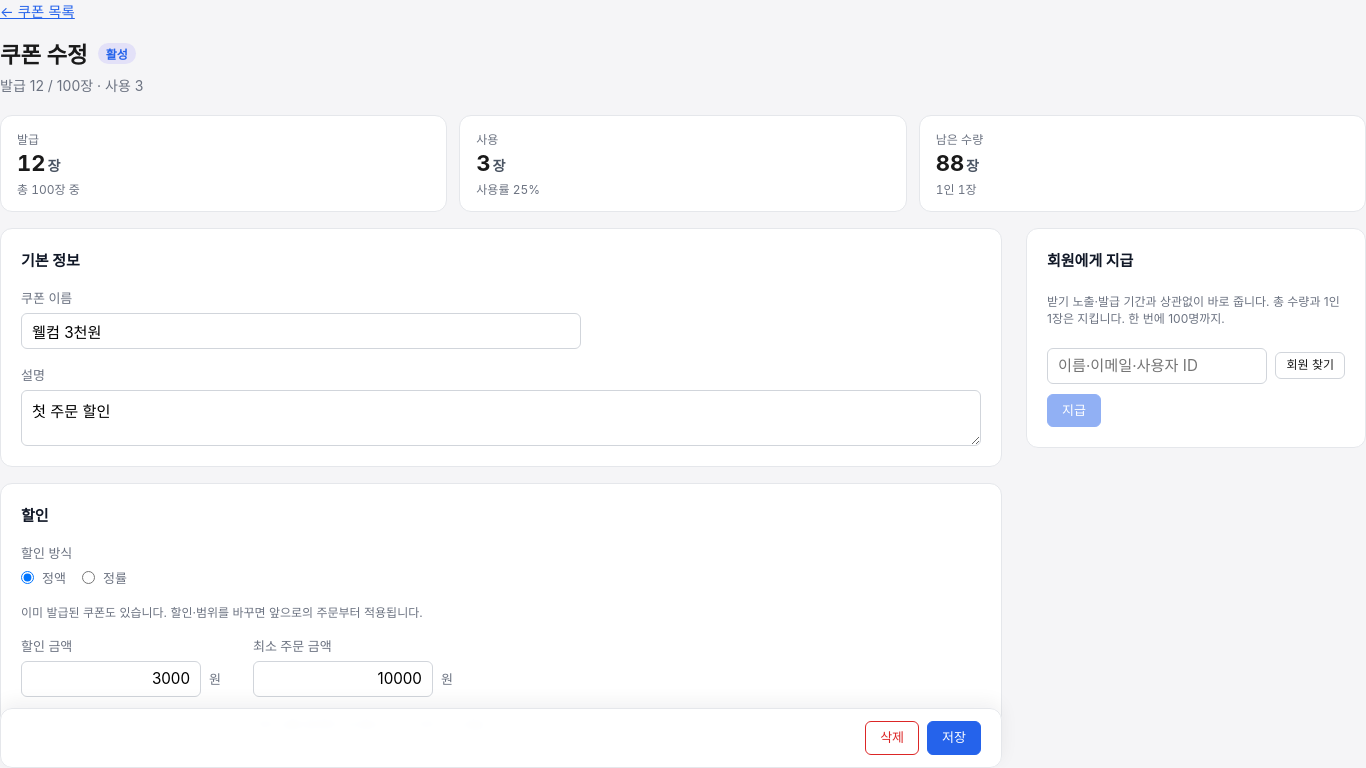
Test: CouponFormPage › shows the server's message on 400
Expected: the field labelled "쿠폰 이름" holds "웰컴 3천원", [21,313,581,349]
Click the button "저장". click: (954, 738)
box: [927,721,981,755]
(page scrolled)
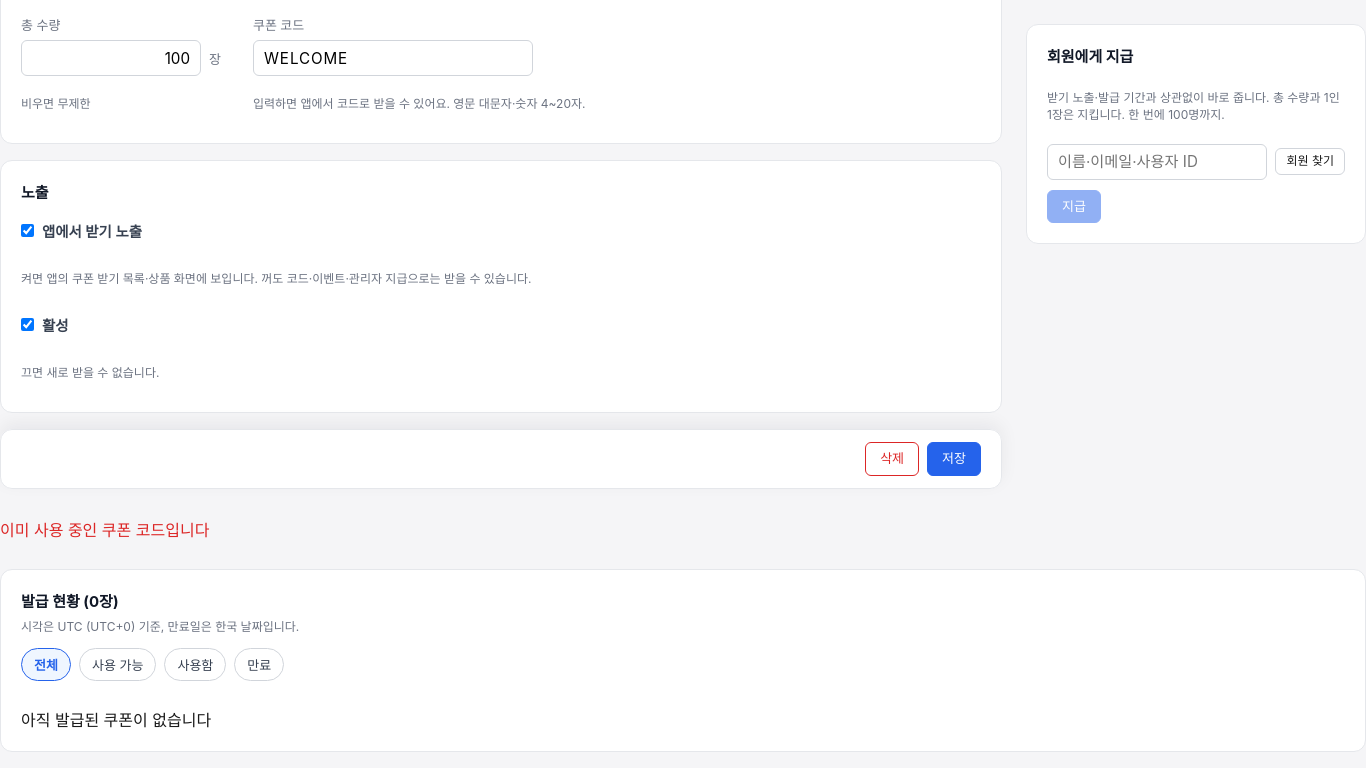
Expected: the text "이미 사용 중인 쿠폰 코드입니다" is shown, [0,520,209,540]
